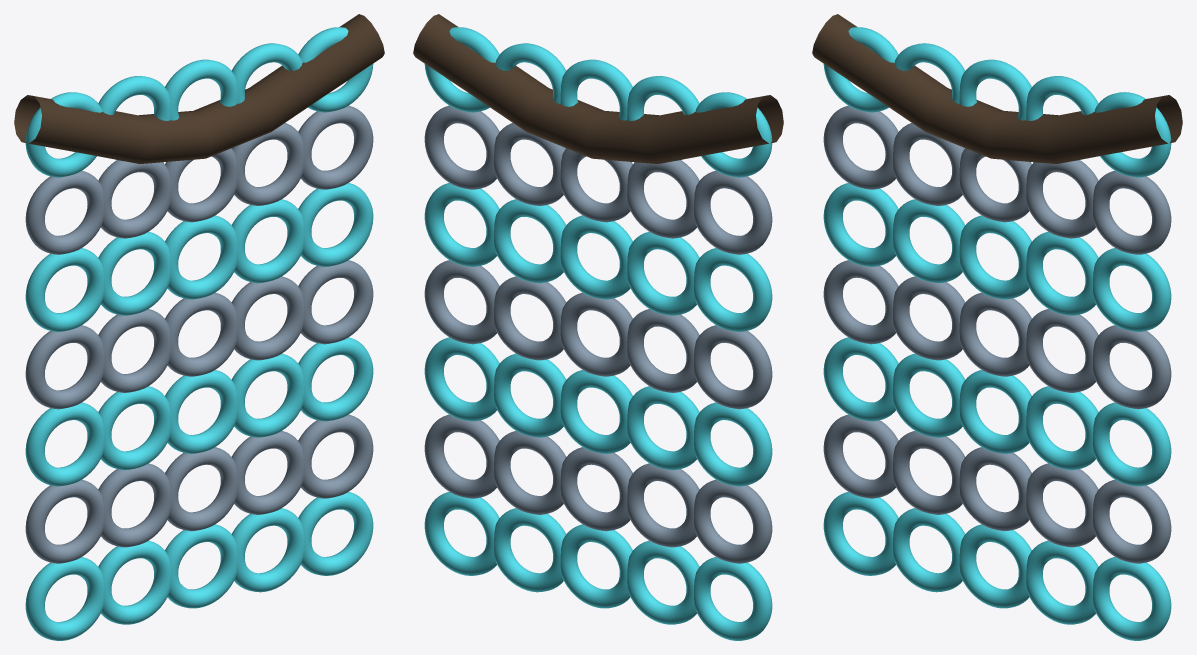
Rendered from cloak_v5.glb.
3 views of the same model, side by side, from view 1: azimuth 30°, elevation 25°; view 2: azimuth 150°, elevation 25°; view 3: azimuth 330°, elevation 25° (orthographic).
Visible parts, largest first — view 1: CHAIN_COLLAR_SECONDARY, MAIL_LINK_PRIMARY, MAIL_LINK_ACCENT.015, MAIL_LINK_PRIMARY.010, MAIL_LINK_ACCENT.005, MAIL_LINK_ACCENT.010, MAIL_LINK_PRIMARY.005, MAIL_LINK_ACCENT.019, MAIL_LINK_PRIMARY.004, MAIL_LINK_PRIMARY.014, MAIL_LINK_ACCENT.009, MAIL_LINK_ACCENT.014 (+24 smaller); view 2: CHAIN_COLLAR_SECONDARY, MAIL_LINK_PRIMARY, MAIL_LINK_ACCENT.015, MAIL_LINK_PRIMARY.010, MAIL_LINK_ACCENT.005, MAIL_LINK_ACCENT.010, MAIL_LINK_PRIMARY.005, MAIL_LINK_ACCENT.019, MAIL_LINK_PRIMARY.004, MAIL_LINK_PRIMARY.014, MAIL_LINK_ACCENT.009, MAIL_LINK_ACCENT.014 (+24 smaller); view 3: CHAIN_COLLAR_SECONDARY, MAIL_LINK_ACCENT.014, MAIL_LINK_PRIMARY.014, MAIL_LINK_ACCENT.019, MAIL_LINK_PRIMARY.004, MAIL_LINK_ACCENT.009, MAIL_LINK_PRIMARY.009, MAIL_LINK_PRIMARY, MAIL_LINK_ACCENT.015, MAIL_LINK_PRIMARY.010, MAIL_LINK_ACCENT.010, MAIL_LINK_ACCENT.005 (+24 smaller).
Part boxes in pixels (left/top/right/bottom): CHAIN_COLLAR_SECONDARY: left=14, top=14, right=384, bottom=163; MAIL_LINK_PRIMARY: left=25, top=170, right=103, bottom=254; MAIL_LINK_ACCENT.015: left=25, top=557, right=103, bottom=640; MAIL_LINK_PRIMARY.010: left=25, top=479, right=103, bottom=563; MAIL_LINK_ACCENT.005: left=25, top=248, right=103, bottom=331; MAIL_LINK_ACCENT.010: left=25, top=402, right=103, bottom=486; MAIL_LINK_PRIMARY.005: left=25, top=325, right=103, bottom=409; MAIL_LINK_ACCENT.019: left=298, top=492, right=373, bottom=575; MAIL_LINK_PRIMARY.004: left=298, top=105, right=373, bottom=189; MAIL_LINK_PRIMARY.014: left=298, top=414, right=373, bottom=498; MAIL_LINK_ACCENT.009: left=298, top=183, right=373, bottom=266; MAIL_LINK_ACCENT.014: left=298, top=337, right=373, bottom=421; CHAIN_COLLAR_SECONDARY: left=413, top=14, right=783, bottom=163; MAIL_LINK_PRIMARY: left=694, top=170, right=772, bottom=254; MAIL_LINK_ACCENT.015: left=694, top=557, right=772, bottom=640; MAIL_LINK_PRIMARY.010: left=694, top=479, right=772, bottom=563; MAIL_LINK_ACCENT.005: left=694, top=248, right=772, bottom=331; MAIL_LINK_ACCENT.010: left=694, top=402, right=772, bottom=486; MAIL_LINK_PRIMARY.005: left=694, top=325, right=772, bottom=409; MAIL_LINK_ACCENT.019: left=424, top=492, right=499, bottom=575; MAIL_LINK_PRIMARY.004: left=424, top=105, right=499, bottom=189; MAIL_LINK_PRIMARY.014: left=424, top=414, right=499, bottom=498; MAIL_LINK_ACCENT.009: left=424, top=183, right=499, bottom=266; MAIL_LINK_ACCENT.014: left=424, top=337, right=499, bottom=421; CHAIN_COLLAR_SECONDARY: left=812, top=14, right=1182, bottom=163; MAIL_LINK_ACCENT.014: left=1093, top=402, right=1171, bottom=486; MAIL_LINK_PRIMARY.014: left=1093, top=479, right=1171, bottom=563; MAIL_LINK_ACCENT.019: left=1093, top=557, right=1171, bottom=640; MAIL_LINK_PRIMARY.004: left=1093, top=171, right=1171, bottom=254; MAIL_LINK_ACCENT.009: left=1093, top=248, right=1171, bottom=331; MAIL_LINK_PRIMARY.009: left=1093, top=325, right=1171, bottom=409; MAIL_LINK_PRIMARY: left=823, top=105, right=898, bottom=189; MAIL_LINK_ACCENT.015: left=823, top=492, right=898, bottom=575; MAIL_LINK_PRIMARY.010: left=823, top=414, right=898, bottom=498; MAIL_LINK_ACCENT.010: left=823, top=337, right=898, bottom=421; MAIL_LINK_ACCENT.005: left=823, top=183, right=898, bottom=266.
Size of the model in its own units: 1.49 by 2.21 by 0.18.
